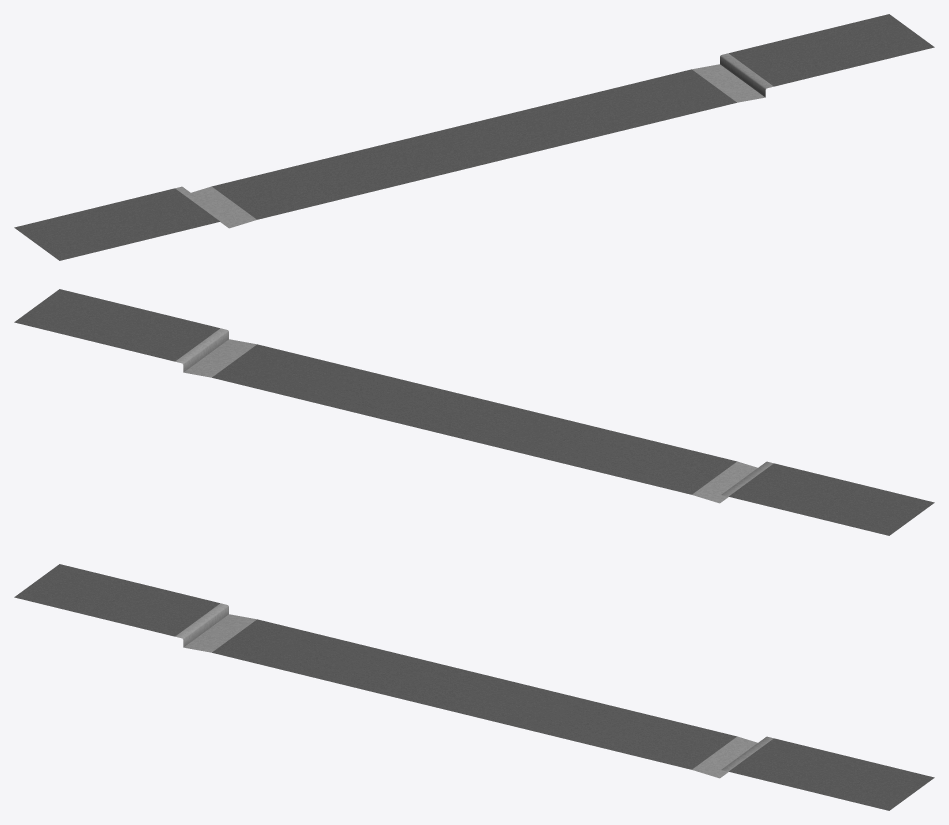
The model's file is Straight.glb.
3 views of the same model, one above another, from view 1: azimuth 30°, elevation 25°; view 2: azimuth 150°, elevation 25°; view 3: azimuth 330°, elevation 25° (orthographic).
Visible parts, largest first — view 1: Straight; view 2: Straight; view 3: Straight.
Part boxes in pixels (x1,y1,x2,y2): Straight: (14,14,934,260); Straight: (14,289,934,535); Straight: (14,564,934,810).
Bounding box in the file's own units: 15.5 × 0.15 × 1.4.
Materials: 3 (3 with a texture image).
